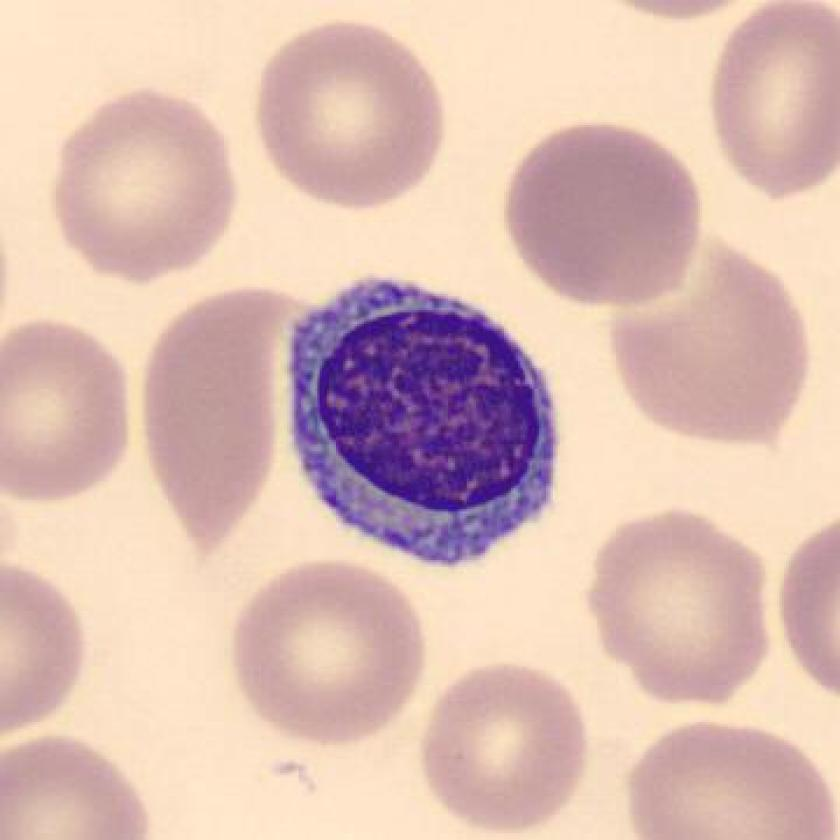lymphocyte: (258, 260, 584, 584)
